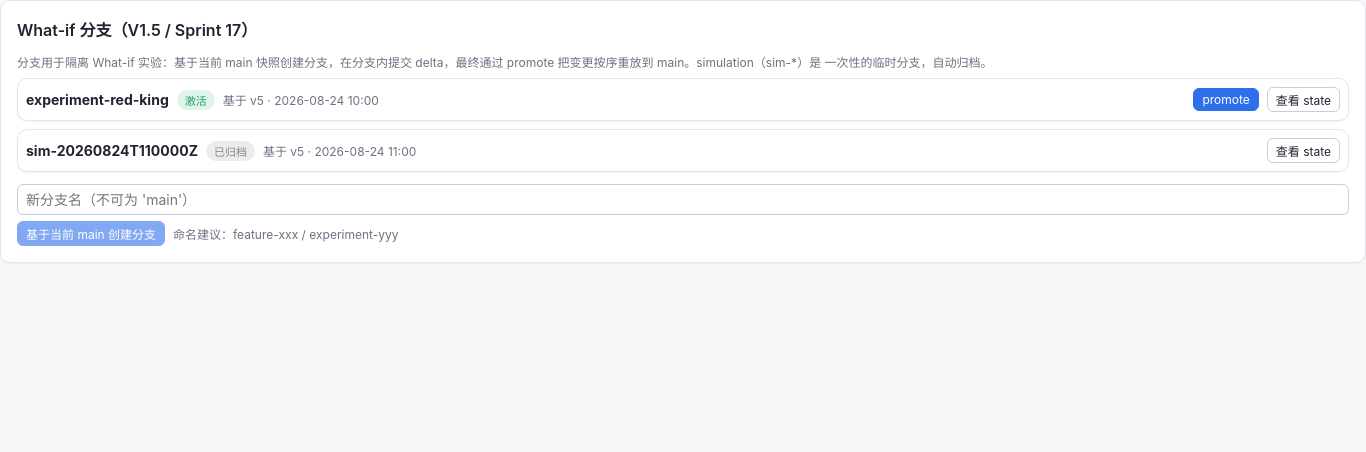
Scenario: BranchesPanel (V1.5 / Sprint 17) › toggle: expand shows state panel; collapse hides it
The width and height of the screenshot is (1366, 452).
Click the button with test id "branches-toggle-br_exp1" at (1303, 100), box top-left (1267, 87), bottom-right (1340, 112)
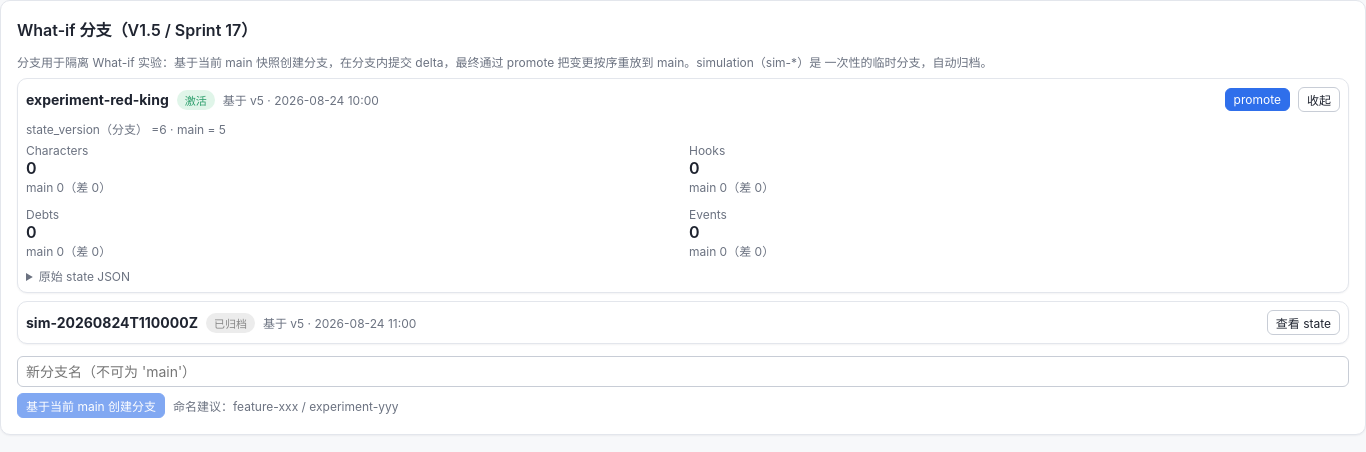
expect the element with test id "branches-state-panel-br_exp1" is shown: met, box top-left (26, 122), bottom-right (774, 284)
Note: 再次点击 → 收起
Click the button with test id "branches-toggle-br_exp1" at (1319, 100), box top-left (1298, 87), bottom-right (1340, 112)
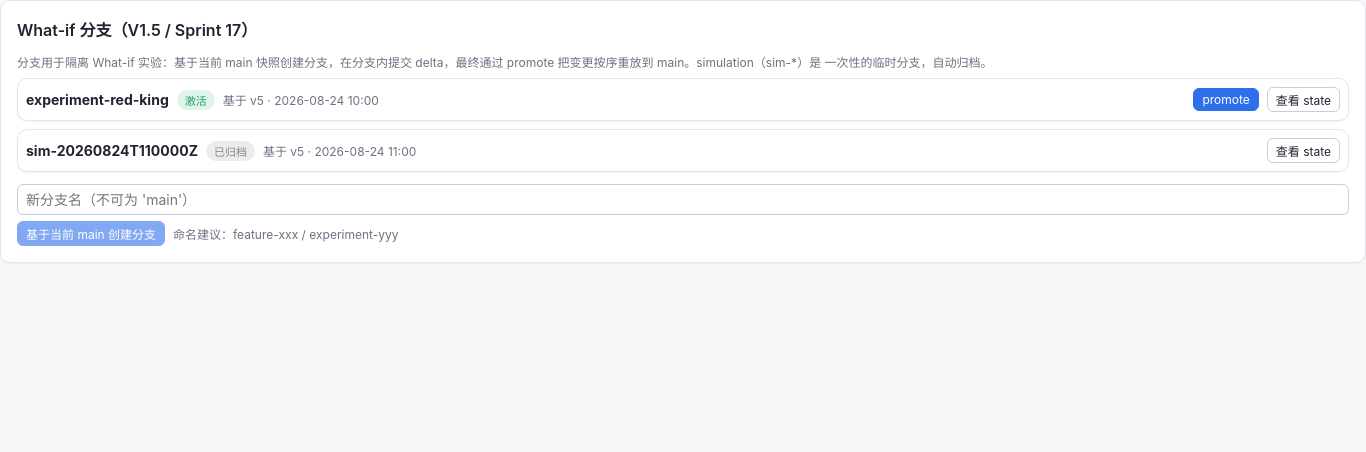
expect the element with test id "branches-state-panel-br_exp1" is gone: met
